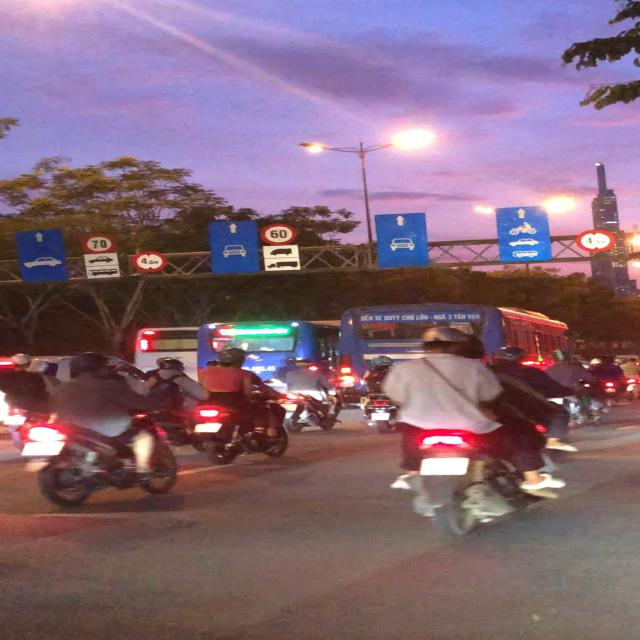Bien bao han che chieu cao: (571, 225, 620, 255), (133, 250, 173, 273)
Bien bao toc do toi da cho phep: (256, 223, 301, 244), (76, 232, 120, 253)
